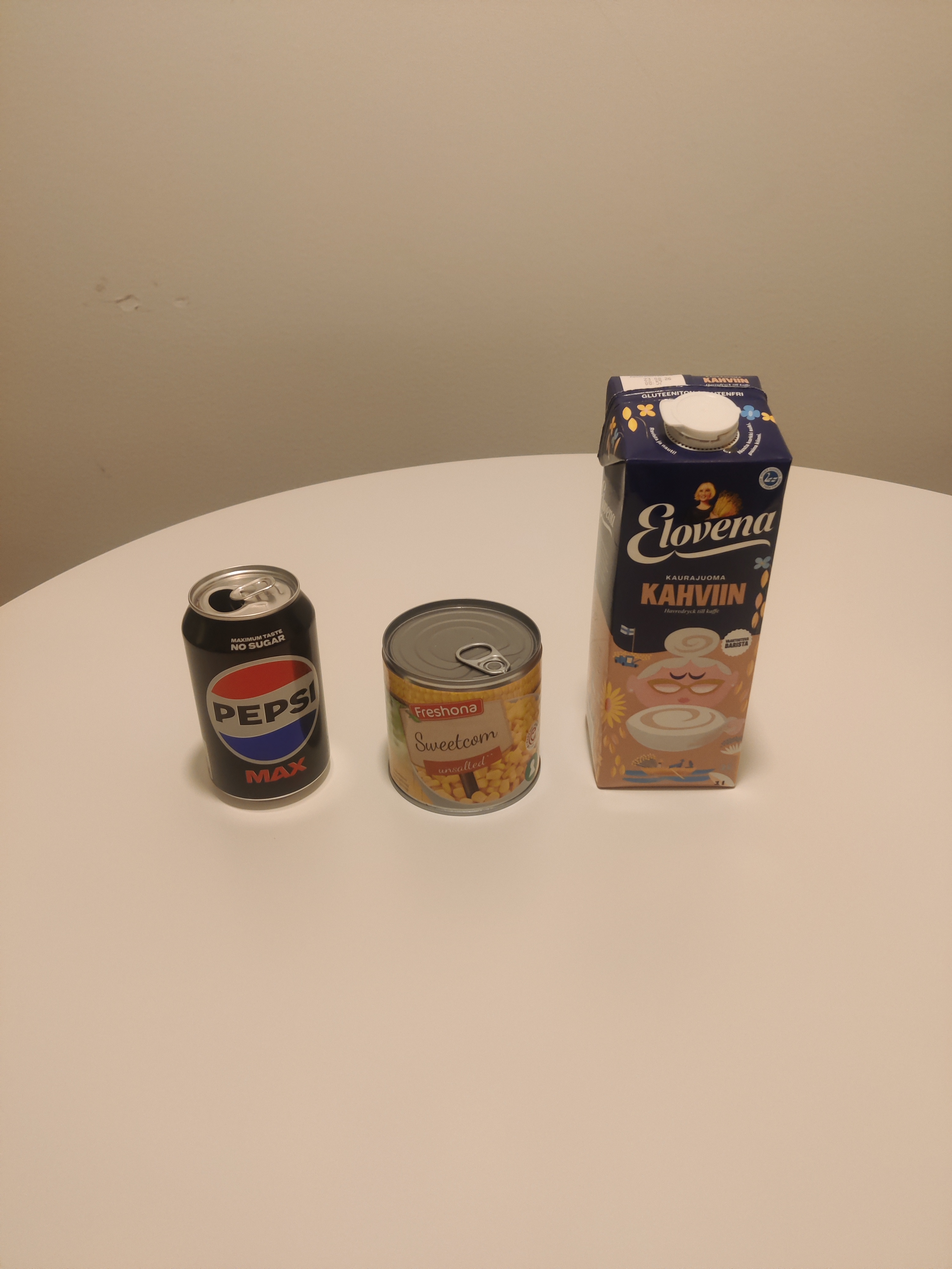Dryckeskartong: (583, 372, 804, 786)
Konservburk: (382, 595, 557, 819)
Pantburk: (180, 562, 348, 821)
